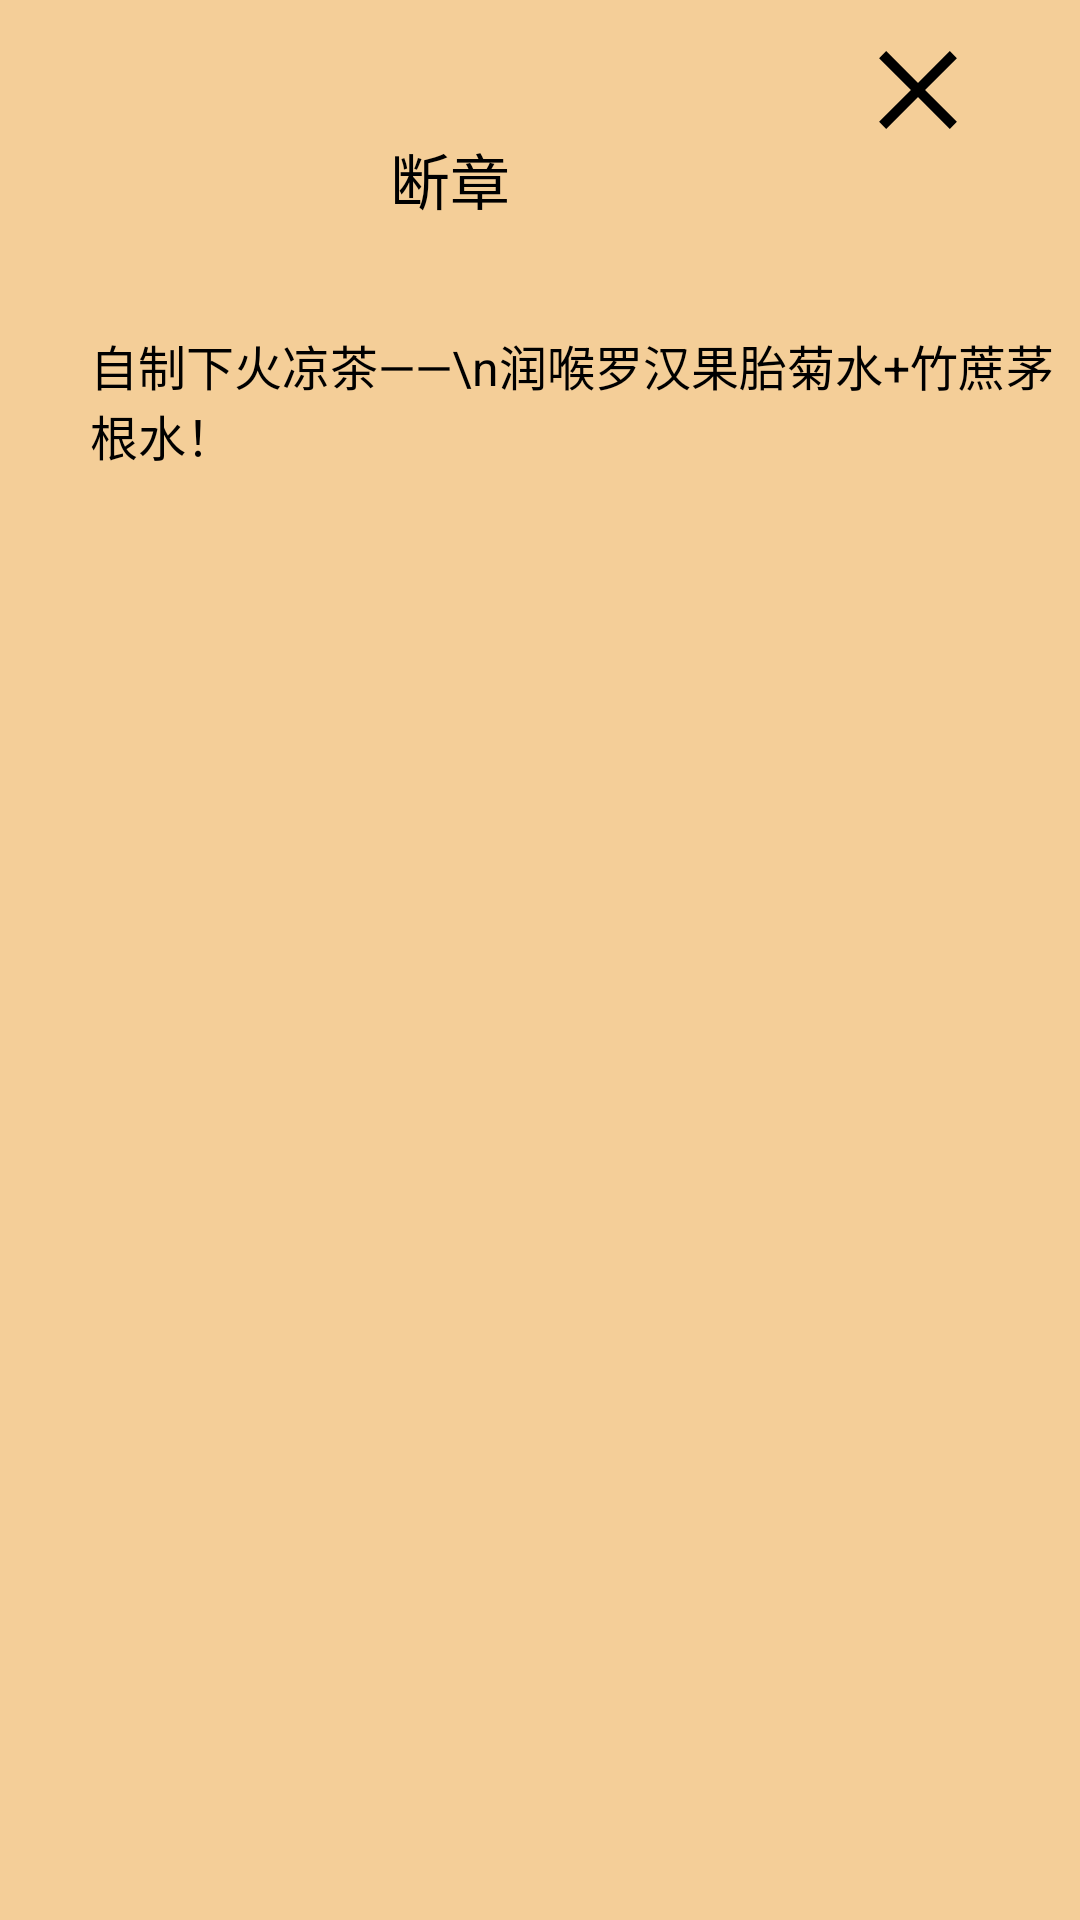

Icons on this 1080x1920 Android screen, each with its box as Rect(x1, y1, x2, y2):
arcodesign close: Rect(879, 51, 957, 129)
